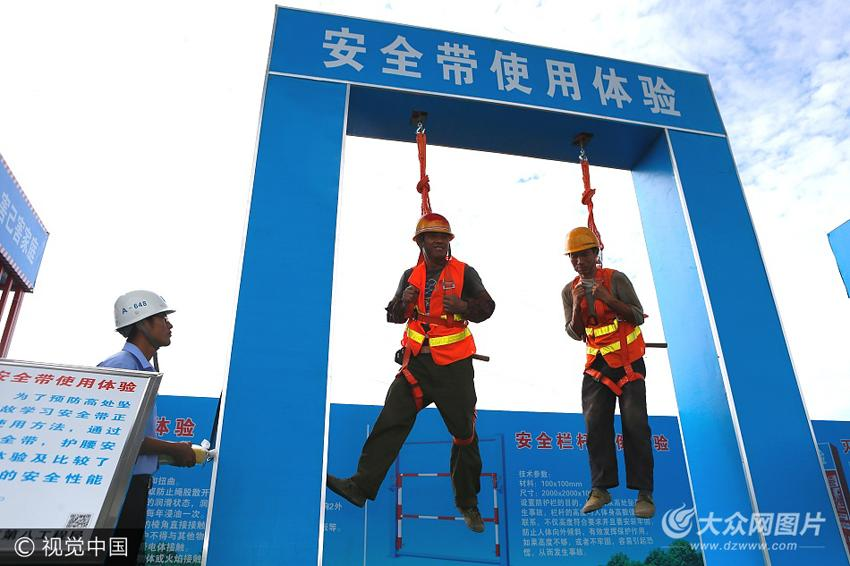helmet: (115, 294, 178, 332), (416, 215, 457, 246), (563, 228, 601, 258)
